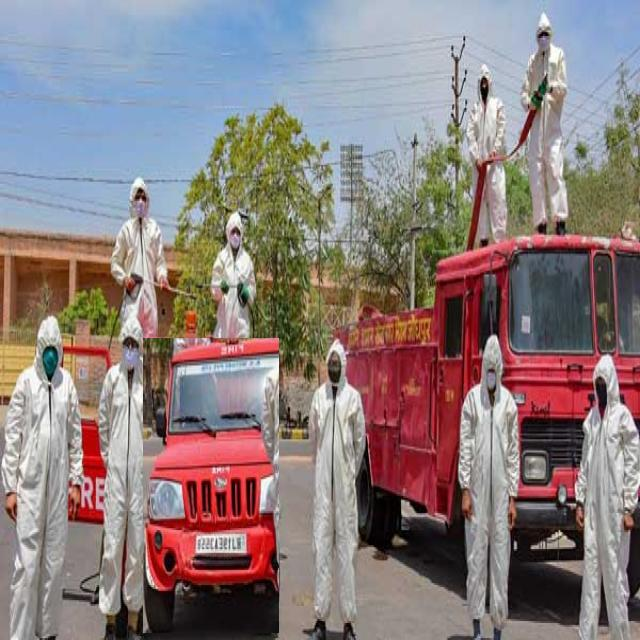emergency: (338, 236, 640, 551), (144, 338, 279, 633)
